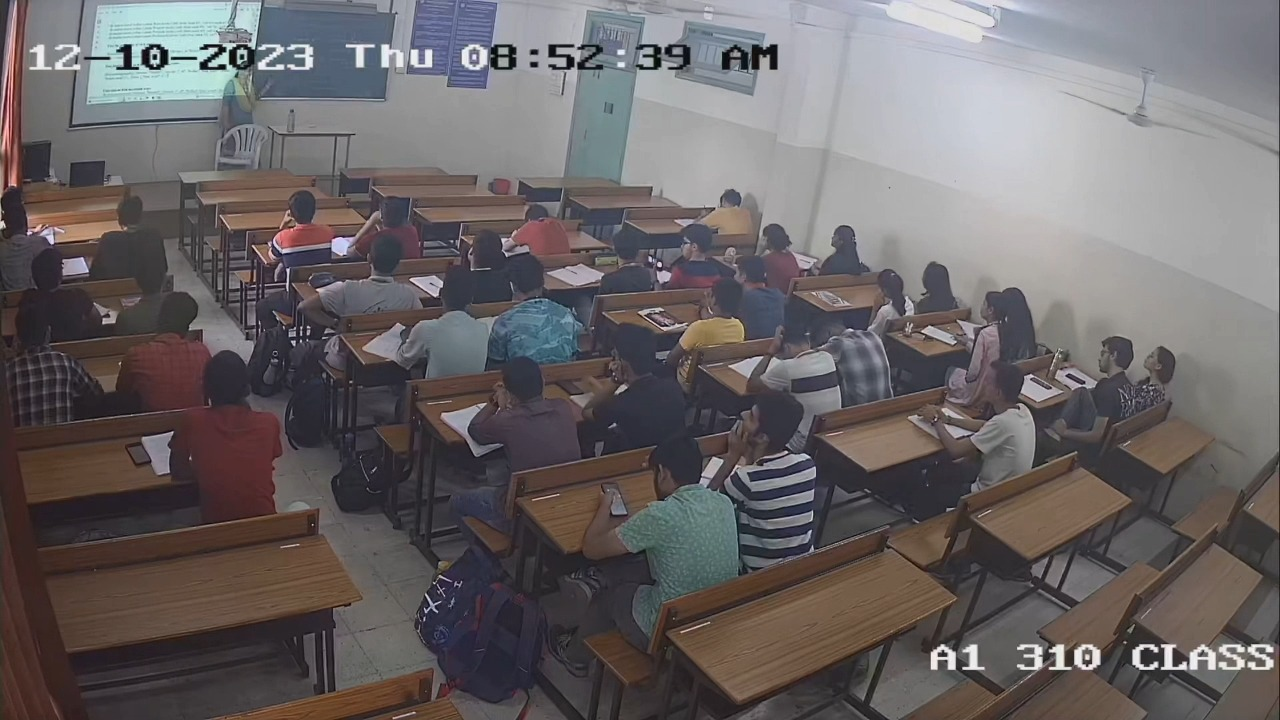cell-phones: (599, 477, 629, 529), (123, 440, 153, 468), (553, 377, 585, 397), (592, 251, 619, 268), (1027, 376, 1056, 391), (1064, 371, 1087, 386)
person: (170, 350, 284, 519), (466, 359, 582, 465), (639, 436, 720, 518), (1068, 337, 1136, 425), (599, 231, 652, 292), (1133, 344, 1176, 409)
